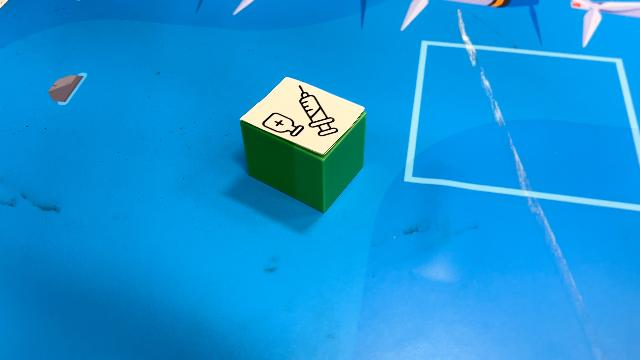syringe: (240, 76, 366, 212)
